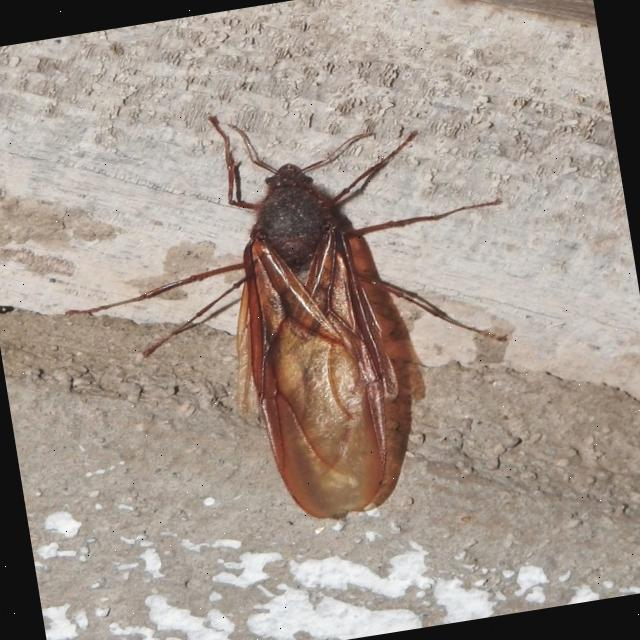Alive-Male-Alate: (38, 73, 548, 556)
